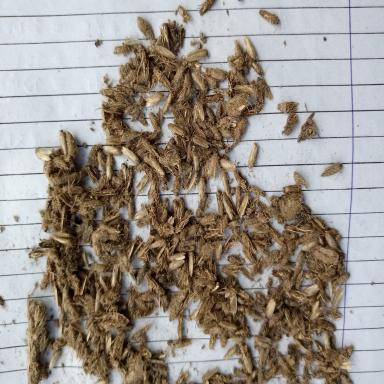pbw: (221, 191, 237, 222), (319, 161, 344, 180), (64, 130, 79, 161), (174, 210, 194, 233), (240, 343, 254, 375), (134, 16, 152, 40), (292, 334, 311, 356), (195, 295, 210, 322), (204, 66, 226, 84), (179, 291, 196, 314), (111, 331, 124, 361), (255, 76, 271, 100), (185, 47, 209, 63), (96, 291, 120, 307), (198, 70, 218, 89), (122, 145, 140, 166), (198, 280, 215, 302), (178, 54, 201, 70), (220, 264, 243, 280), (248, 256, 264, 279), (130, 96, 144, 122), (241, 230, 255, 256), (316, 244, 340, 259), (271, 244, 287, 266), (46, 349, 62, 371), (155, 243, 170, 266), (267, 226, 284, 246), (331, 285, 345, 309), (283, 270, 298, 292), (262, 363, 279, 382), (192, 99, 206, 122), (131, 323, 151, 339), (190, 73, 206, 93), (282, 115, 297, 136), (128, 239, 142, 261), (313, 250, 335, 264), (267, 310, 284, 328), (174, 367, 192, 384), (317, 316, 336, 332), (198, 310, 217, 326), (292, 171, 308, 190), (218, 115, 237, 131), (244, 36, 256, 61), (143, 92, 163, 107), (135, 173, 150, 193), (247, 141, 258, 168), (239, 191, 250, 218), (99, 209, 120, 223), (232, 67, 249, 84), (136, 263, 148, 287), (175, 4, 191, 22), (143, 272, 159, 290), (154, 46, 176, 59), (109, 93, 131, 106), (195, 268, 217, 281), (160, 22, 170, 50), (109, 262, 119, 290), (31, 244, 59, 254), (100, 101, 120, 115), (41, 202, 50, 233), (134, 307, 157, 319), (242, 104, 263, 117), (331, 356, 352, 369), (234, 169, 247, 190), (153, 185, 161, 219), (134, 204, 151, 220), (57, 192, 74, 208), (45, 255, 55, 282), (226, 68, 236, 95), (96, 320, 123, 330), (104, 331, 114, 358), (249, 89, 267, 104), (172, 169, 182, 196), (279, 250, 293, 269), (251, 240, 270, 254), (134, 289, 156, 301), (121, 130, 143, 142), (258, 345, 270, 367), (148, 111, 160, 133), (162, 92, 173, 116), (152, 156, 165, 176), (231, 225, 244, 245), (325, 230, 338, 250), (276, 352, 289, 372), (166, 338, 192, 348), (140, 50, 148, 82), (197, 0, 214, 15), (303, 282, 320, 297), (81, 345, 92, 368), (87, 141, 98, 164), (249, 185, 267, 199), (90, 187, 118, 196), (300, 237, 318, 251), (192, 134, 210, 148), (218, 158, 236, 172), (222, 232, 234, 253), (253, 334, 271, 348), (264, 296, 276, 317), (196, 194, 206, 219), (199, 94, 224, 104), (34, 148, 53, 161), (209, 137, 228, 150), (129, 82, 151, 93), (283, 307, 294, 329), (187, 171, 198, 193), (52, 282, 63, 304), (313, 340, 328, 356), (219, 167, 229, 191), (100, 144, 120, 156), (58, 173, 82, 183), (60, 184, 84, 194), (86, 162, 98, 182), (238, 265, 252, 282), (167, 122, 184, 136), (245, 306, 263, 319), (281, 230, 294, 248), (148, 237, 166, 250), (254, 290, 265, 311), (270, 269, 291, 280), (205, 106, 216, 127), (51, 233, 70, 245), (58, 204, 66, 232), (324, 348, 340, 362), (188, 250, 196, 278), (244, 368, 258, 384), (136, 213, 152, 227), (309, 306, 323, 322), (250, 59, 264, 75), (216, 98, 226, 120), (61, 283, 68, 314), (115, 83, 133, 95), (79, 199, 103, 208), (332, 272, 350, 284), (26, 246, 44, 258), (105, 154, 113, 181), (124, 166, 132, 193), (167, 258, 185, 270), (59, 127, 67, 154), (156, 223, 174, 235), (286, 288, 304, 300), (213, 86, 231, 98), (161, 198, 170, 222), (222, 346, 237, 360), (309, 219, 323, 234), (235, 286, 250, 300), (176, 310, 183, 340), (278, 102, 299, 112), (197, 173, 205, 199), (311, 352, 328, 364), (106, 133, 123, 145), (283, 298, 300, 310), (294, 250, 304, 270), (219, 328, 229, 348), (226, 254, 246, 264), (167, 252, 187, 262), (233, 84, 258, 92), (233, 40, 244, 58), (194, 124, 207, 139), (254, 210, 270, 222), (263, 254, 275, 270), (312, 230, 324, 246), (143, 152, 155, 168), (219, 319, 238, 329), (100, 224, 119, 234), (136, 300, 155, 310), (227, 56, 248, 65), (79, 275, 88, 296), (183, 166, 191, 189), (191, 153, 200, 173), (119, 160, 128, 180), (126, 192, 132, 222), (283, 223, 301, 233), (98, 276, 109, 292), (206, 294, 217, 310), (68, 302, 79, 318), (173, 152, 181, 174), (177, 196, 184, 221), (150, 201, 156, 230), (122, 37, 141, 46), (179, 224, 188, 243), (173, 131, 183, 148), (234, 326, 251, 336), (188, 308, 200, 322), (75, 331, 82, 355), (113, 46, 134, 54), (228, 296, 237, 314), (203, 325, 221, 334), (302, 270, 318, 280), (244, 216, 260, 226), (94, 290, 100, 316), (166, 163, 178, 176), (326, 309, 343, 318), (296, 271, 304, 290), (208, 332, 216, 351), (146, 183, 156, 198), (184, 70, 191, 91), (227, 334, 243, 343), (282, 185, 300, 193), (80, 340, 88, 358), (99, 87, 119, 94), (164, 138, 174, 152), (99, 107, 107, 124), (256, 365, 263, 384), (136, 114, 148, 125), (310, 300, 320, 313), (248, 196, 258, 209), (341, 346, 354, 356), (111, 175, 124, 185), (150, 266, 164, 275), (172, 198, 178, 219), (324, 225, 338, 234), (324, 332, 331, 350), (294, 235, 306, 245), (299, 353, 312, 362), (213, 300, 227, 308), (233, 294, 244, 304), (216, 242, 222, 260), (210, 281, 219, 293), (328, 279, 334, 297), (227, 220, 240, 228), (236, 304, 247, 312), (332, 234, 342, 242)
